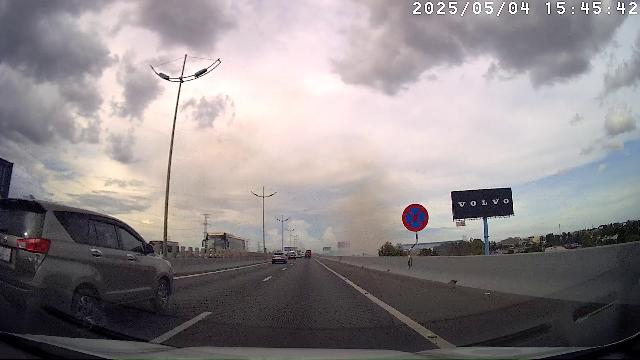130-cam-dung-va-do-xe: (401, 202, 430, 232)
